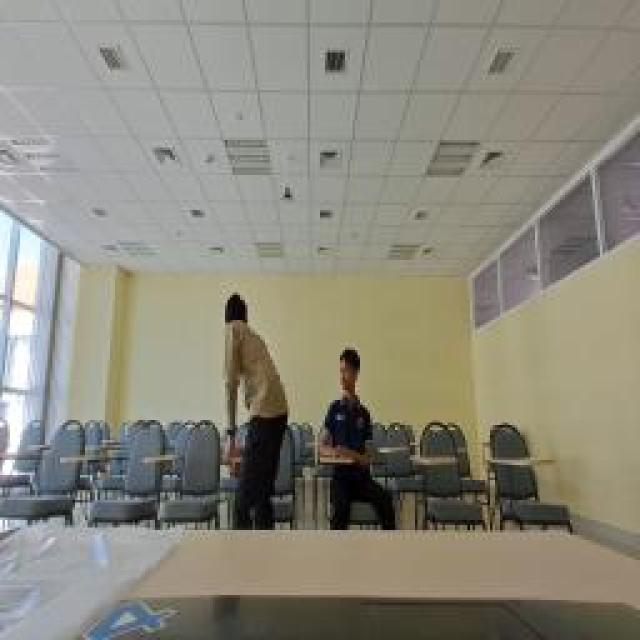study: (322, 345, 392, 527)
